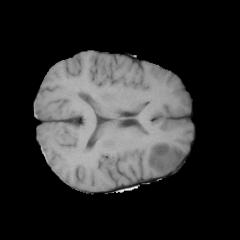glioma: (146, 142, 185, 173)
